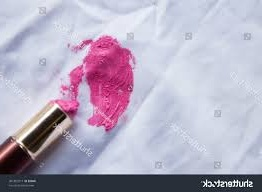lipstick: (62, 37, 138, 130)
